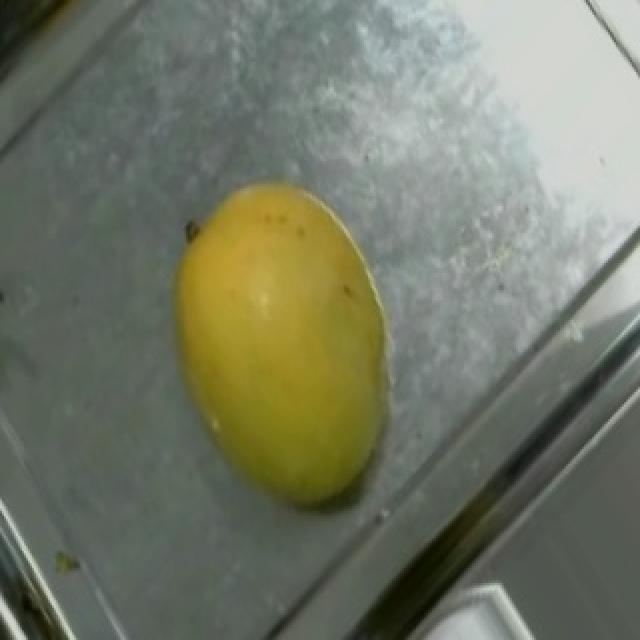fruit: (112, 142, 478, 548)
